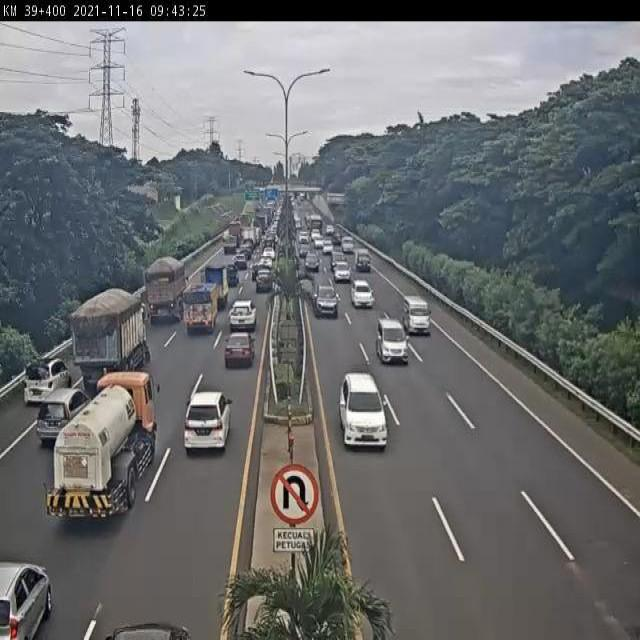car: (331, 363, 399, 453), (0, 558, 71, 640), (181, 384, 234, 467), (19, 346, 77, 410), (32, 389, 89, 451), (372, 312, 412, 375), (217, 327, 259, 376), (401, 295, 438, 345), (347, 272, 380, 315), (198, 264, 230, 305), (305, 283, 343, 317), (223, 299, 261, 333), (253, 269, 274, 296), (303, 248, 323, 276), (333, 259, 352, 288), (220, 231, 241, 257), (247, 260, 267, 284), (222, 264, 238, 291), (339, 235, 359, 256), (320, 240, 337, 257), (236, 254, 250, 270)
small truck: (181, 282, 224, 338), (352, 245, 374, 275)
truck-m-: (36, 370, 163, 538), (64, 291, 162, 397), (142, 253, 186, 329)
